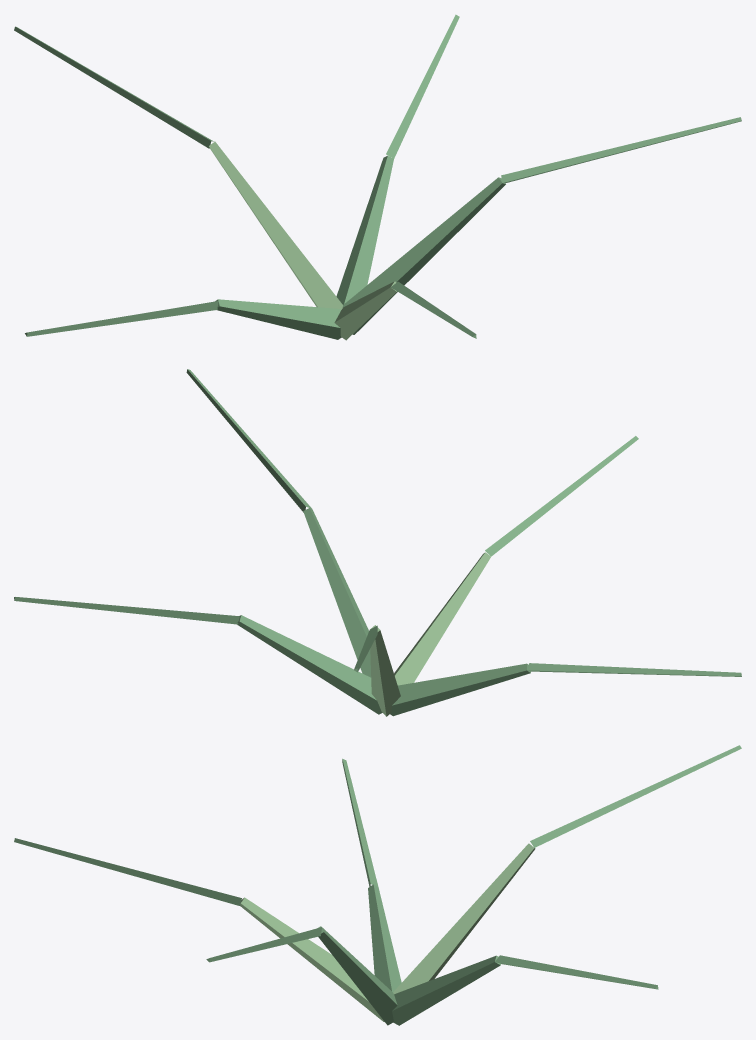
Rendered from fern_v48.glb.
The picture shows the model from 3 angles, top to bottom: view 1: azimuth 30°, elevation 25°; view 2: azimuth 150°, elevation 25°; view 3: azimuth 270°, elevation 25°; orthographic projection. The views are drawn at different scales.
Visible parts, largest first — view 1: lod0; view 2: lod0; view 3: lod0.
Boxes of the visible parts, x1,y1,x2,y2 form: lod0: (14, 14, 741, 340); lod0: (14, 369, 741, 716); lod0: (14, 745, 741, 1025).
Size of what is drawn, in the model's own units: 1.61 by 0.5162 by 1.63.
